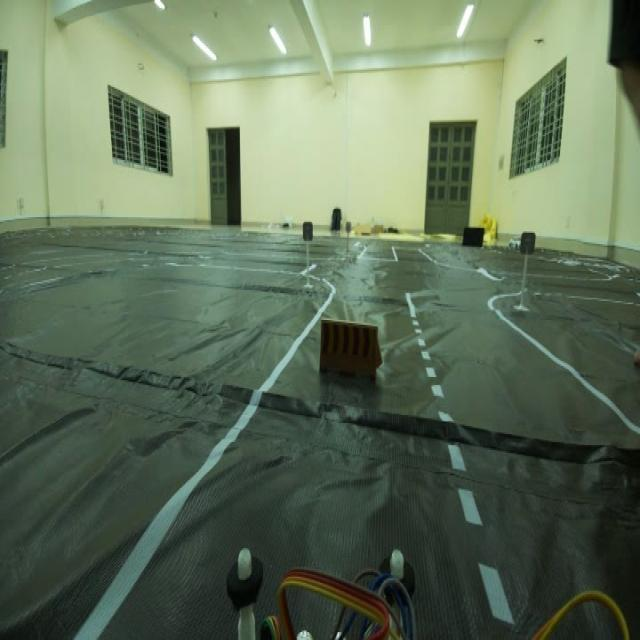roadblock: (314, 305, 380, 394)
